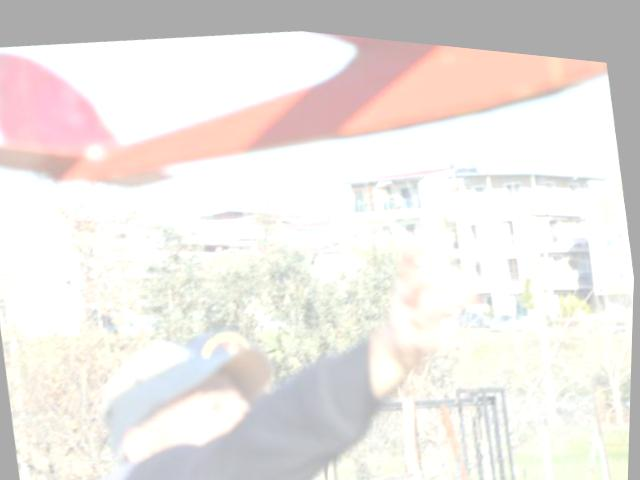iha: (0, 0, 620, 244)
